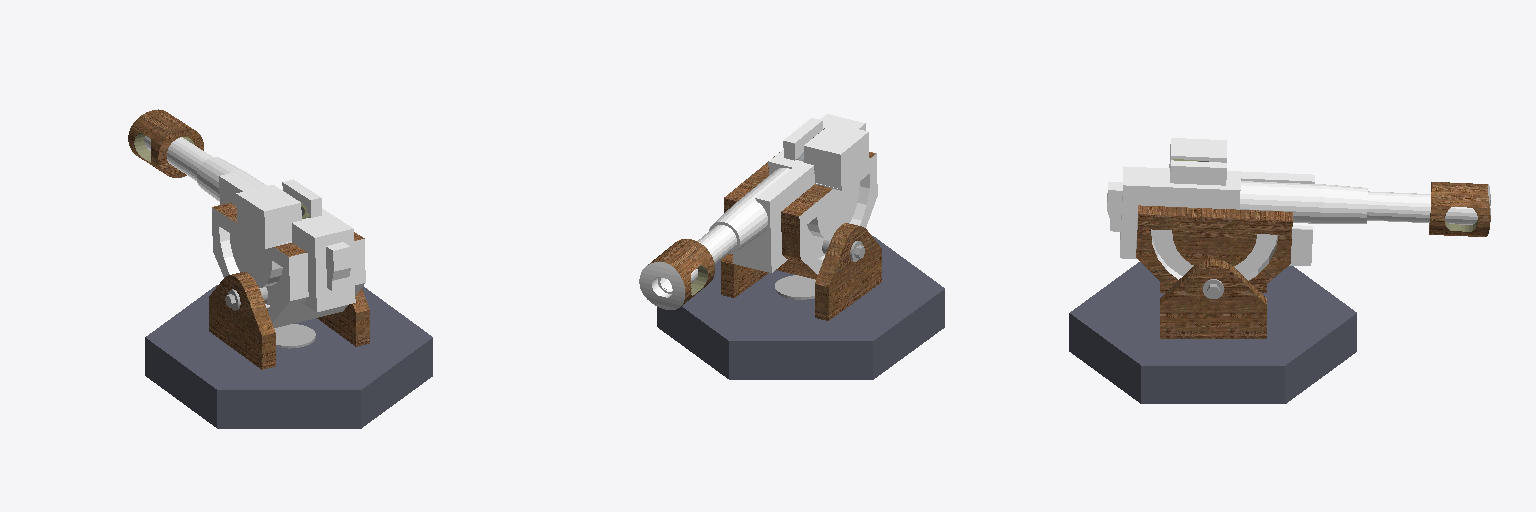
The picture shows the model from 3 angles: view 1: azimuth 30°, elevation 25°; view 2: azimuth 150°, elevation 25°; view 3: azimuth 270°, elevation 25°; orthographic projection.
Parts seen in each view (by area): view 1: Mesh1 Group1 Model, Mesh6 Group2 Model, Mesh7 Group2 Model; view 2: Mesh1 Group1 Model, Mesh6 Group2 Model, Mesh7 Group2 Model; view 3: Mesh1 Group1 Model, Mesh6 Group2 Model, Mesh7 Group2 Model.
Part boxes in pixels (x1,y1,x2,y2): Mesh1 Group1 Model: (145,272,432,428); Mesh6 Group2 Model: (144,136,365,327); Mesh7 Group2 Model: (128,109,203,177); Mesh1 Group1 Model: (657,223,944,379); Mesh6 Group2 Model: (658,114,877,293); Mesh7 Group2 Model: (639,239,714,309); Mesh1 Group1 Model: (1069,259,1356,403); Mesh6 Group2 Model: (1107,138,1477,290); Mesh7 Group2 Model: (1429,182,1490,236).
Bounding box in the file's own units: 17.54 × 14.83 × 29.61.
Materials: 9 (1 with a texture image).